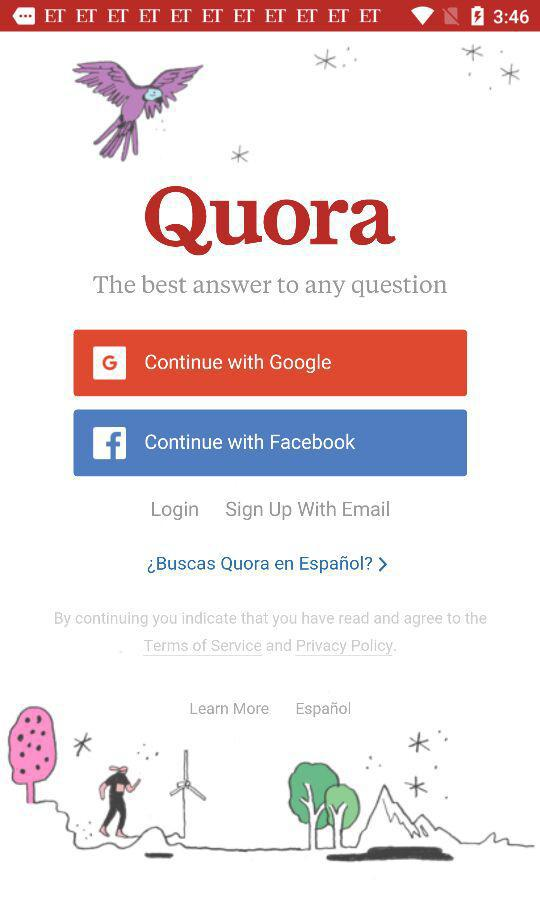BackgroundImage: (1, 33, 540, 897)
Text: (55, 611, 488, 658), (144, 185, 398, 257), (93, 275, 448, 299), (148, 555, 388, 575), (226, 500, 390, 521), (189, 702, 271, 716), (296, 701, 352, 719), (152, 501, 200, 521)
TextButton: (74, 410, 468, 477), (74, 330, 467, 397)
UpperTaskBar: (1, 1, 540, 33)
